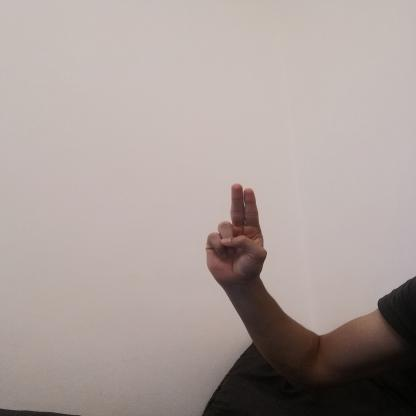TA: (192, 171, 278, 290)
